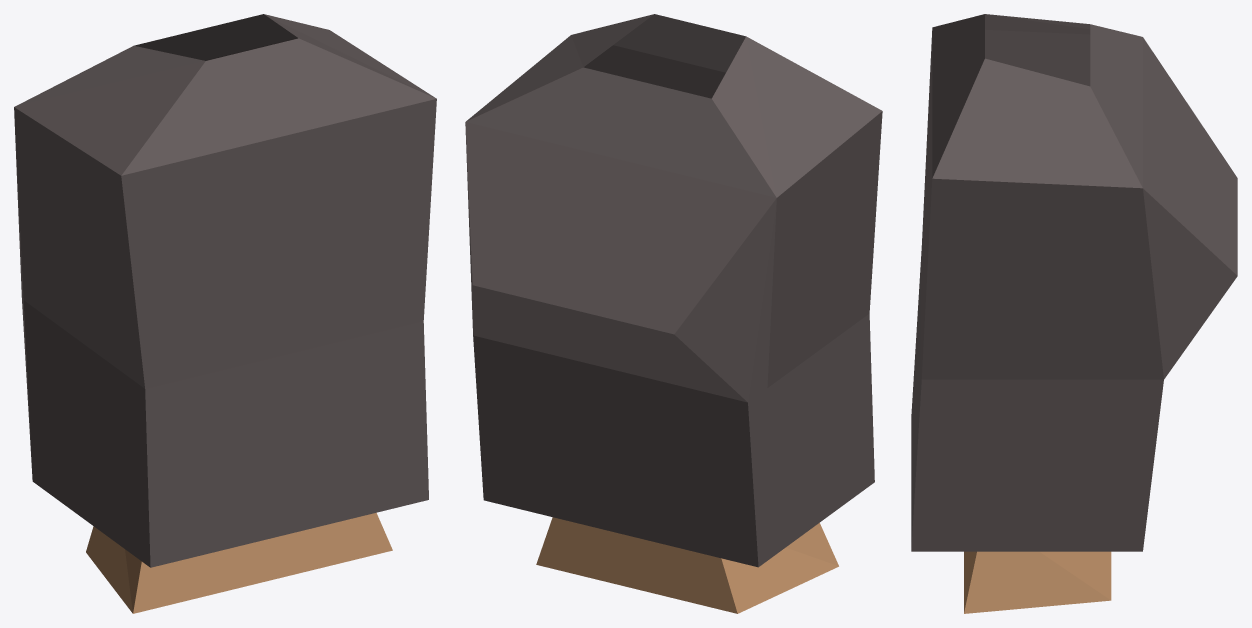
File: itm_model0_steel_chainbody.obj
3 renders of one model, left to right at view 1: azimuth 30°, elevation 25°; view 2: azimuth 150°, elevation 25°; view 3: azimuth 270°, elevation 25°, orthographic.
Bounding box in the file's own units: 0.2656 × 0.4219 × 0.2422.
